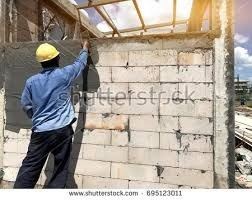helmet: (34, 41, 63, 65)
person with partial safety: (12, 40, 79, 188)
